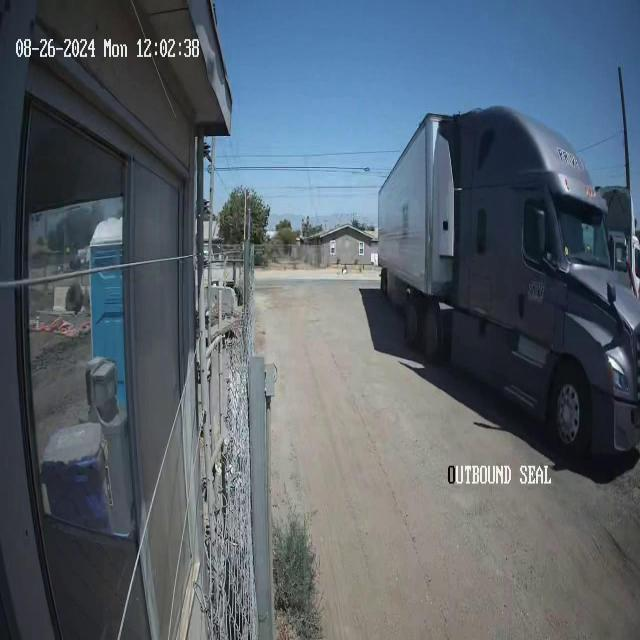TRUCK_IN: (376, 101, 640, 462)
